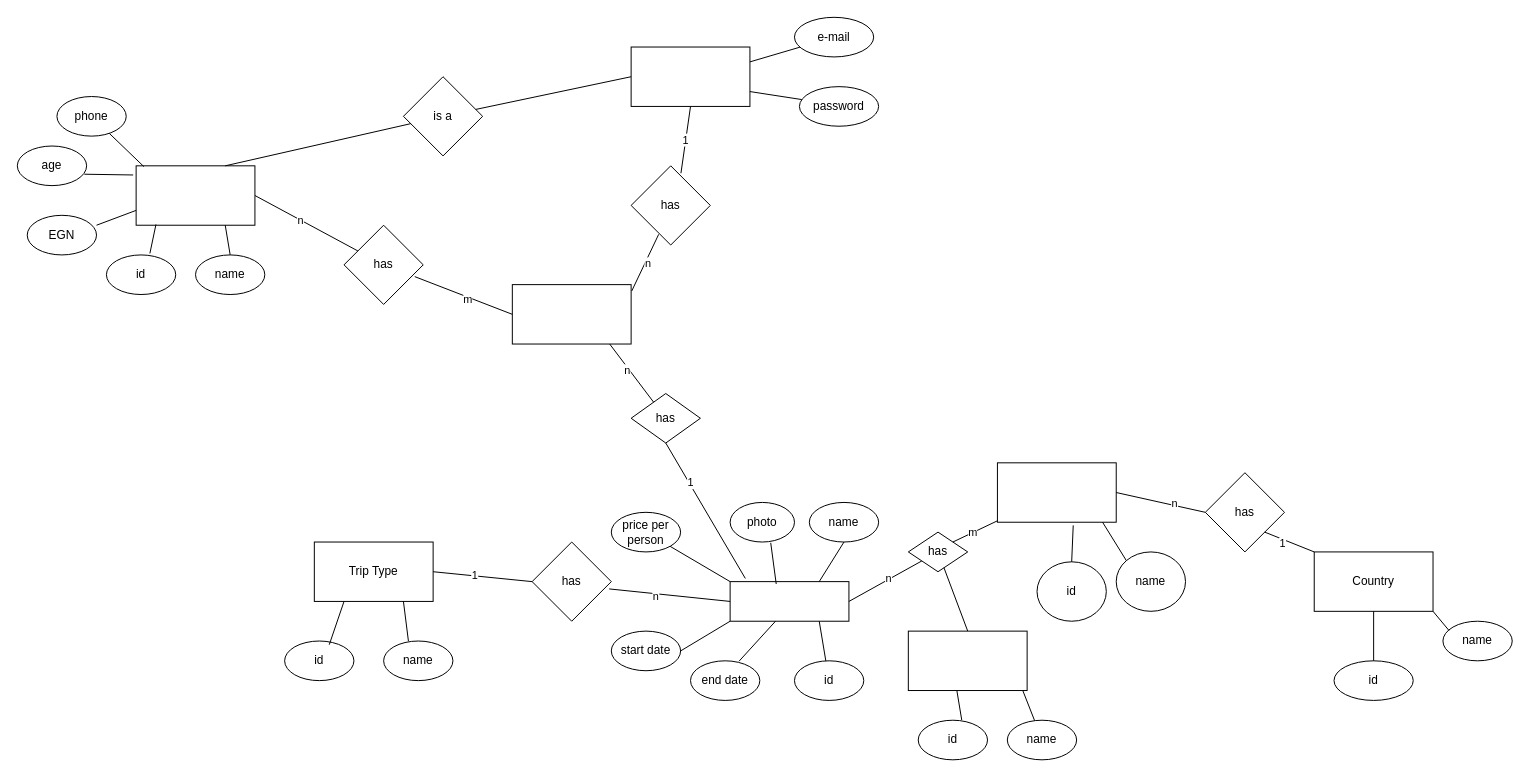
Some shapes in this 1530 by 777 pixel diagram are drawn without their labels. The shapes that lost their labels are listed below. From the top down, each one's centre as x and y in pixels, then its label:
At (690,76): "user".
At (195,195): "Travellers".
At (571,314): "Reservation".
At (1056,492): "Destination".
At (789,601): "Trip".
At (967,660): "Travel Type".
